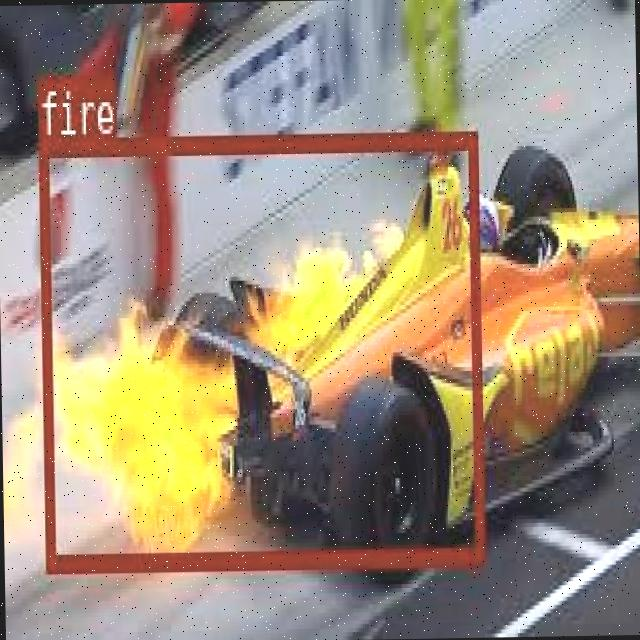fire: (36, 126, 482, 568)
